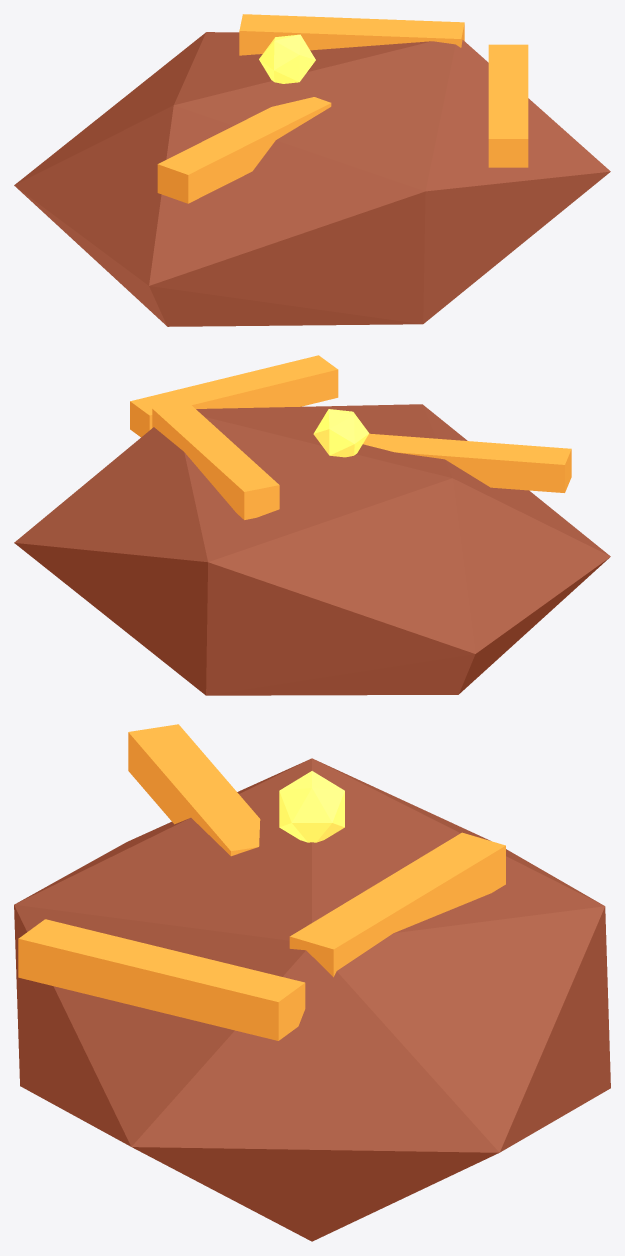
Rendered from hearthstone.glb.
3 renders of one model, top to bottom at view 1: azimuth 30°, elevation 25°; view 2: azimuth 150°, elevation 25°; view 3: azimuth 270°, elevation 25°, orthographic. The views are drawn at different scales.
Visible parts, largest first — view 1: hearthstone; view 2: hearthstone; view 3: hearthstone.
Part boxes in pixels (x1,y1,x2,y2): hearthstone: [14, 14, 610, 326]; hearthstone: [14, 355, 610, 695]; hearthstone: [14, 724, 610, 1241].
Size of the model in its own units: 0.3428 by 0.1803 by 0.2783.
